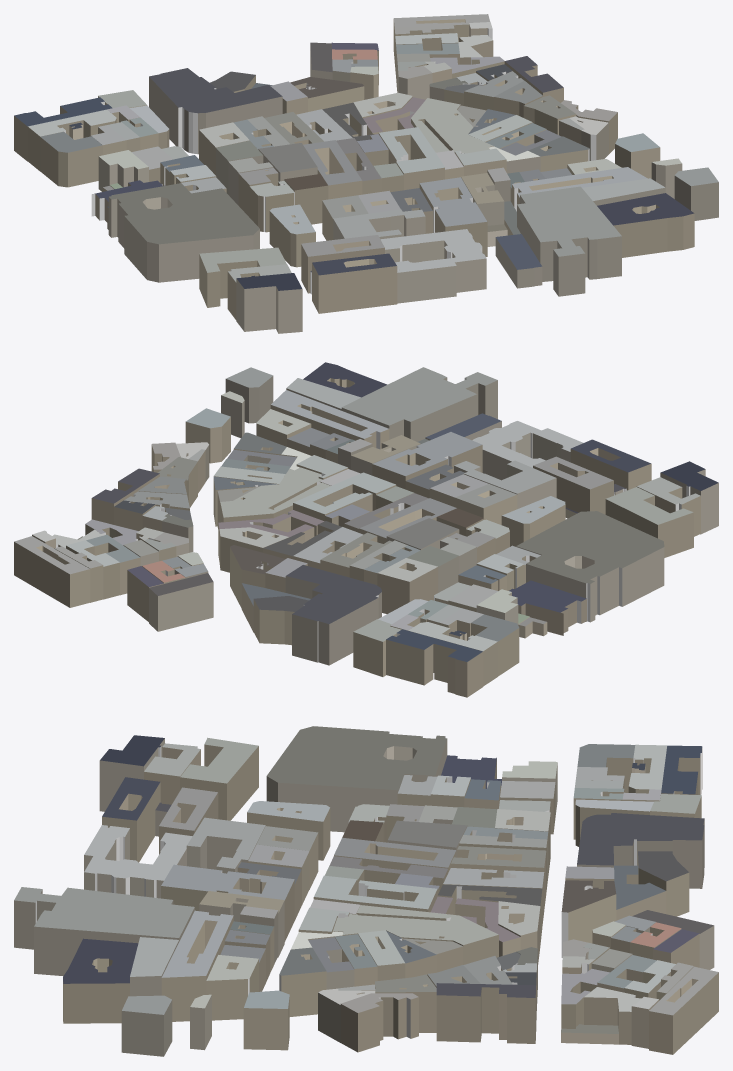
3 views of the same model, one above another, from view 1: azimuth 30°, elevation 25°; view 2: azimuth 150°, elevation 25°; view 3: azimuth 270°, elevation 25° (orthographic). The views are drawn at different scales.
Visible parts, largest first — view 1: tuile; view 2: tuile; view 3: tuile.
Part boxes in pixels (<box>): tuile: <box>14,14,718,333</box>; tuile: <box>14,362,718,697</box>; tuile: <box>14,726,718,1056</box>.
Bounding box in the file's own units: 286 × 25.35 × 296.
